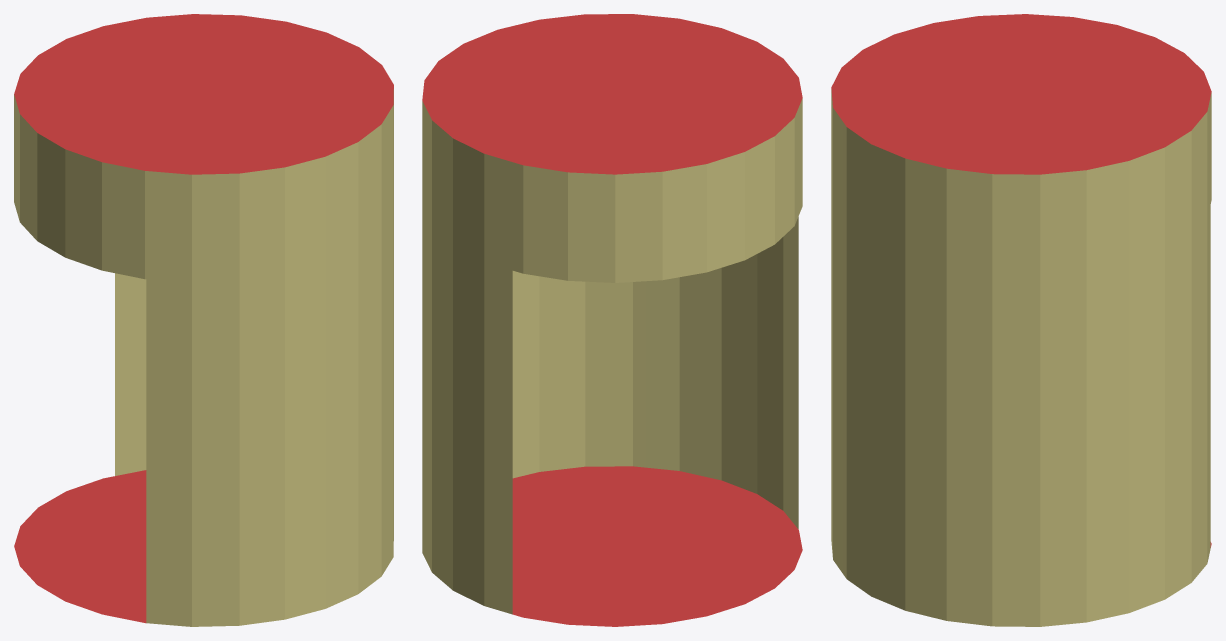
The picture shows the model from 3 angles, left to right: view 1: azimuth 30°, elevation 25°; view 2: azimuth 150°, elevation 25°; view 3: azimuth 270°, elevation 25°; orthographic projection.
Bounding box in the file's own units: 7.39 × 7.39 × 9.7.
